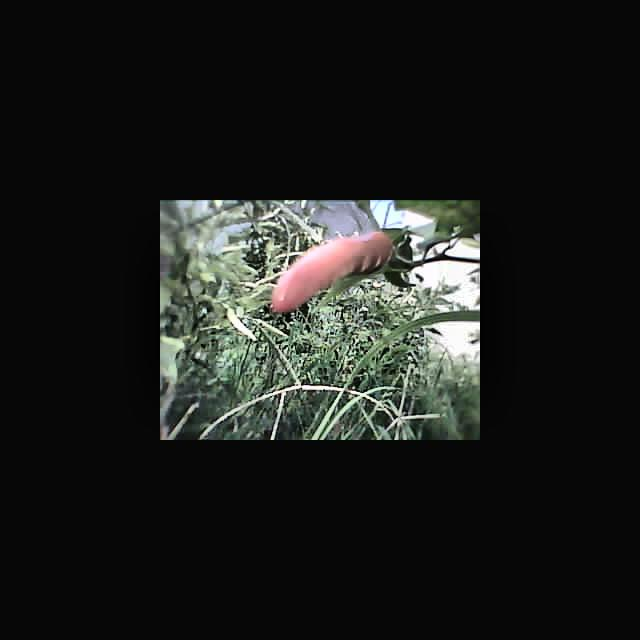Cabai: (247, 225, 399, 319)
